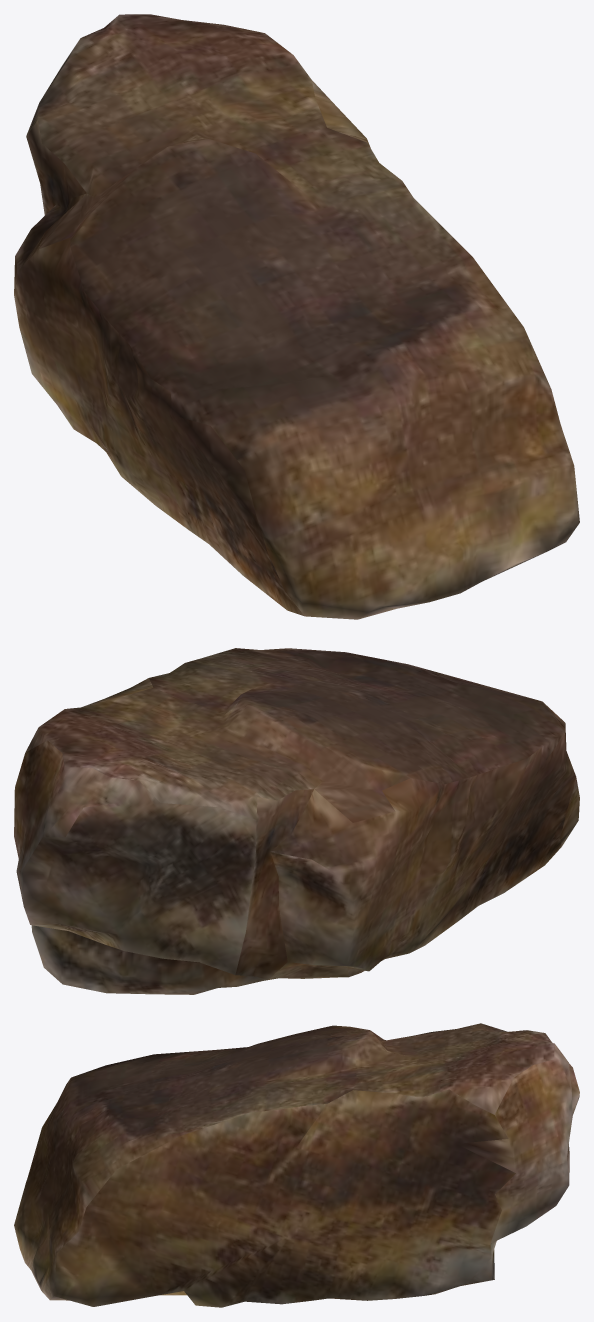
File: rock_a.glb
3 renders of one model, top to bottom at view 1: azimuth 30°, elevation 25°; view 2: azimuth 150°, elevation 25°; view 3: azimuth 270°, elevation 25°, orthographic. The views are drawn at different scales.
Visible parts, largest first — view 1: rock_a; view 2: rock_a; view 3: rock_a.
Boxes of the visible parts, x1=… form: rock_a: x1=14, y1=14, x2=579, y2=619; rock_a: x1=14, y1=648, x2=579, y2=994; rock_a: x1=14, y1=1023, x2=579, y2=1307.
Bounding box in the file's own units: 0.1657 × 0.1427 × 0.3207.
Materials: 1 (1 with a texture image).
